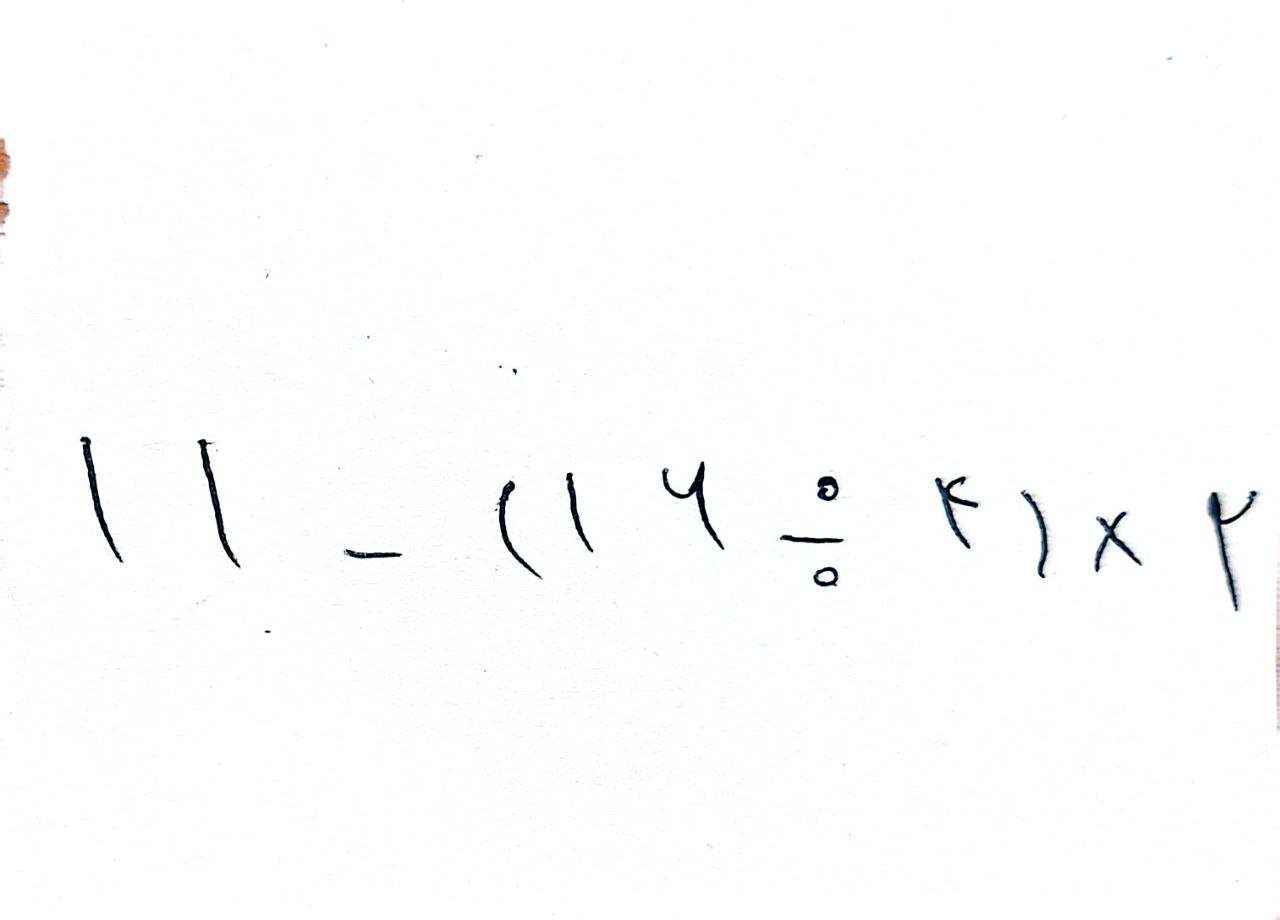character: (779, 472, 853, 587), (1204, 485, 1258, 614), (660, 459, 727, 554), (198, 438, 243, 567), (80, 436, 124, 567), (495, 476, 546, 580), (933, 474, 979, 552), (1088, 508, 1142, 574), (1016, 489, 1052, 580), (565, 469, 596, 554), (342, 546, 404, 562)
